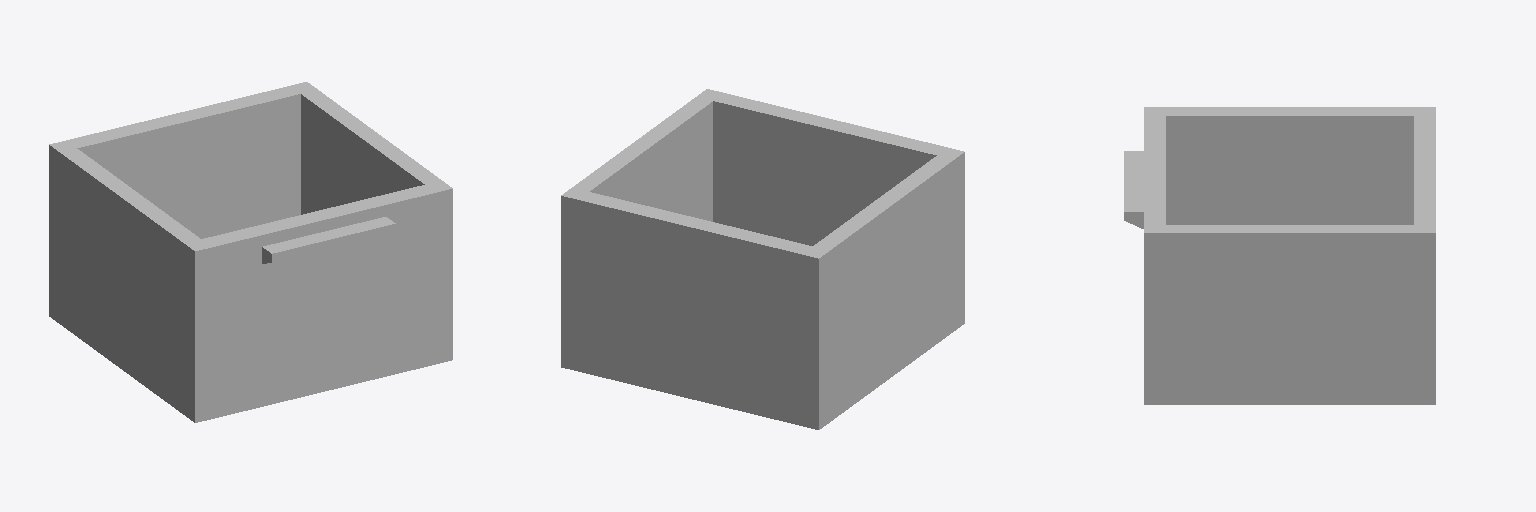
The model's file is FileCabinet_Standard_Drawer.obj.
3 views of the same model, side by side, from view 1: azimuth 30°, elevation 25°; view 2: azimuth 150°, elevation 25°; view 3: azimuth 270°, elevation 25° (orthographic).
Visible parts, largest first — view 1: FileCabinet_Standard_Drawer; view 2: FileCabinet_Standard_Drawer; view 3: FileCabinet_Standard_Drawer.
Boxes of the visible parts, box(x1,y1,x2,y2) form: FileCabinet_Standard_Drawer: box(49, 82, 452, 422); FileCabinet_Standard_Drawer: box(561, 89, 964, 429); FileCabinet_Standard_Drawer: box(1124, 107, 1435, 404).
Bounding box in the file's own units: 0.5101 × 0.3244 × 0.5336.